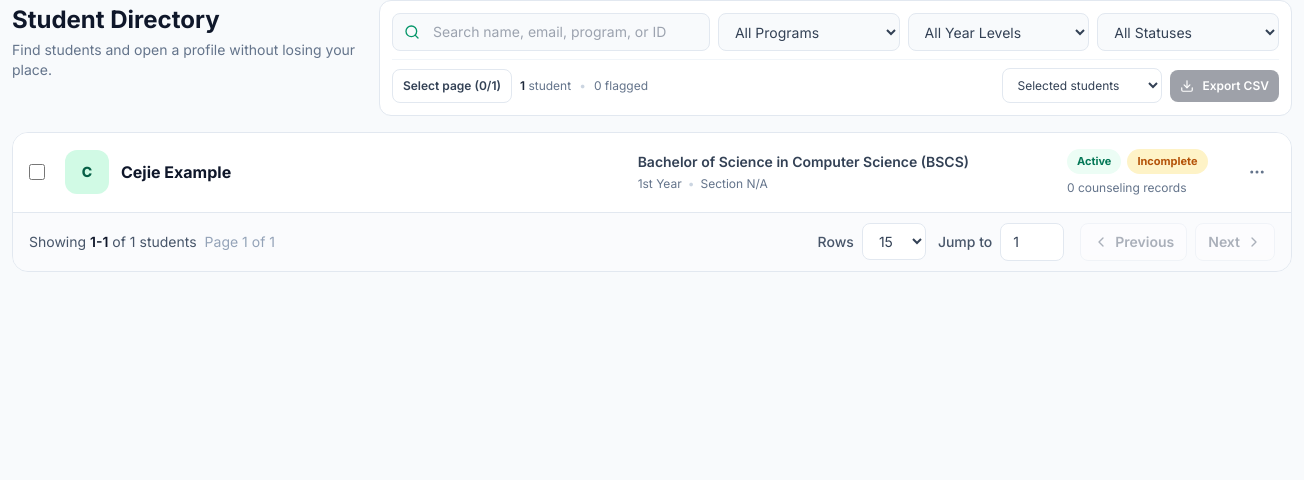
DeptStudentsPage › keeps compact actions independent from profile navigation
Click the button named "Actions for Cejie Example".
click(1257, 172)  # box [1248, 163, 1266, 181]
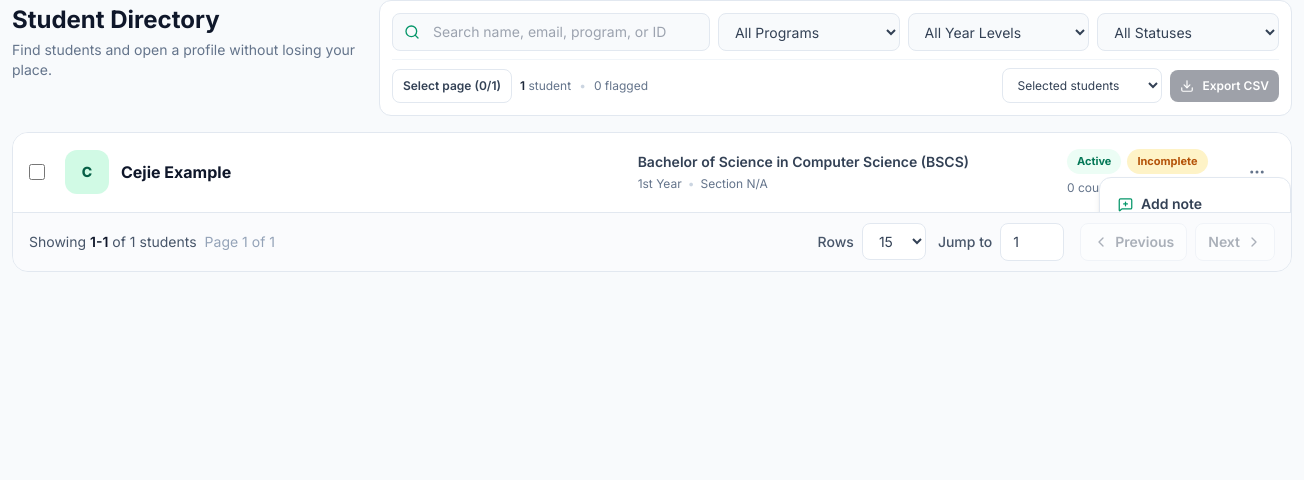
Click the menu item "Add note".
click(1195, 204)  # box [1106, 184, 1284, 224]
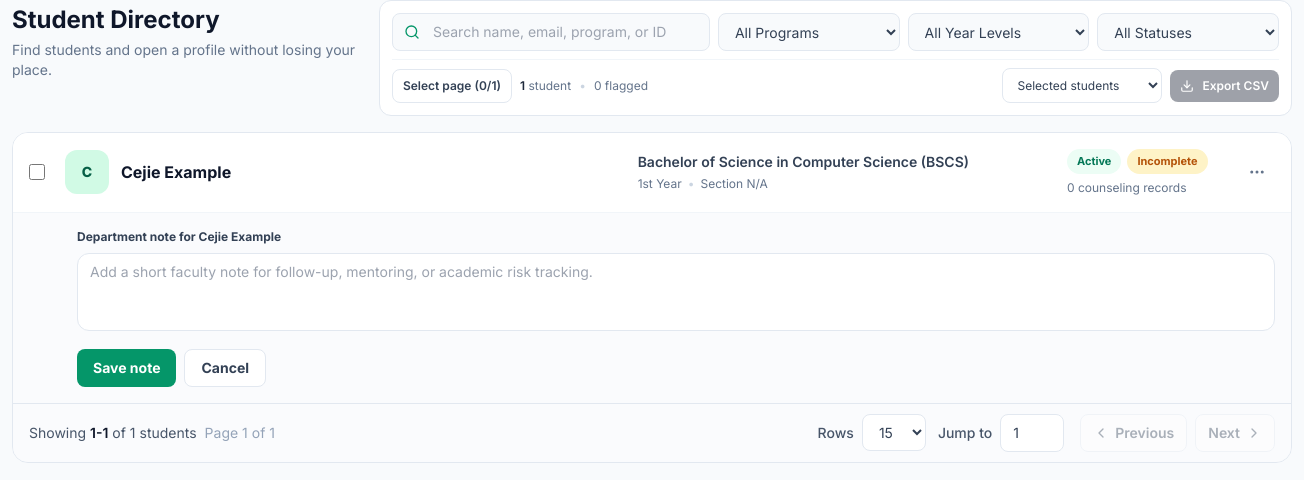
Expected: the text box with placeholder "Add a short faculty note" is shown, [77, 252, 1275, 330]
